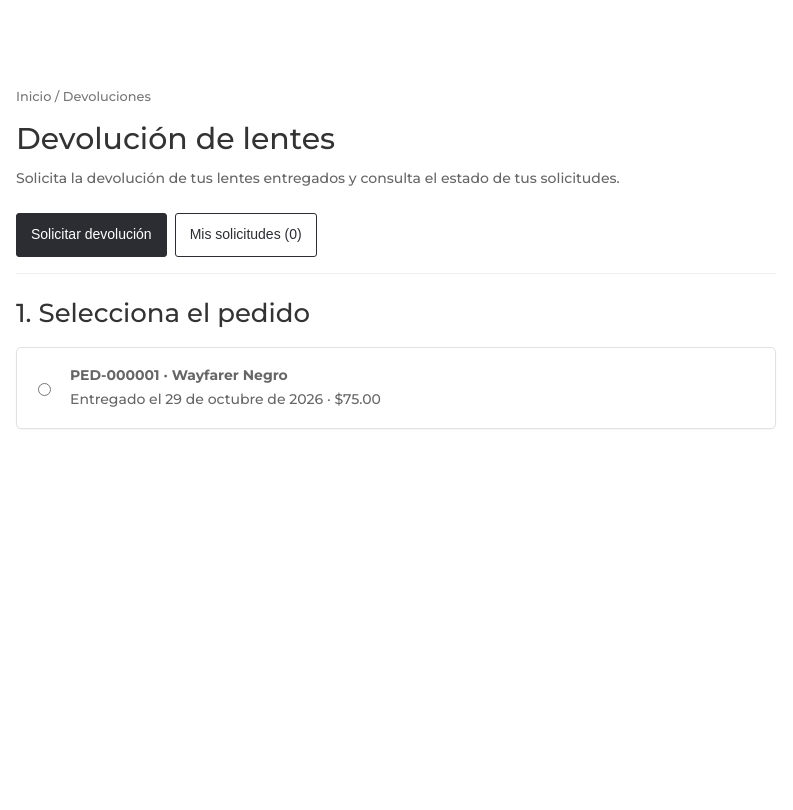
Test case: ReturnsPage › RN3 / RN5: exige motivo, forma y confirmación antes de enviar
Click the radio button labelled "PED-000001": (44, 389) top-left (38, 383), bottom-right (51, 396)
(page scrolled)
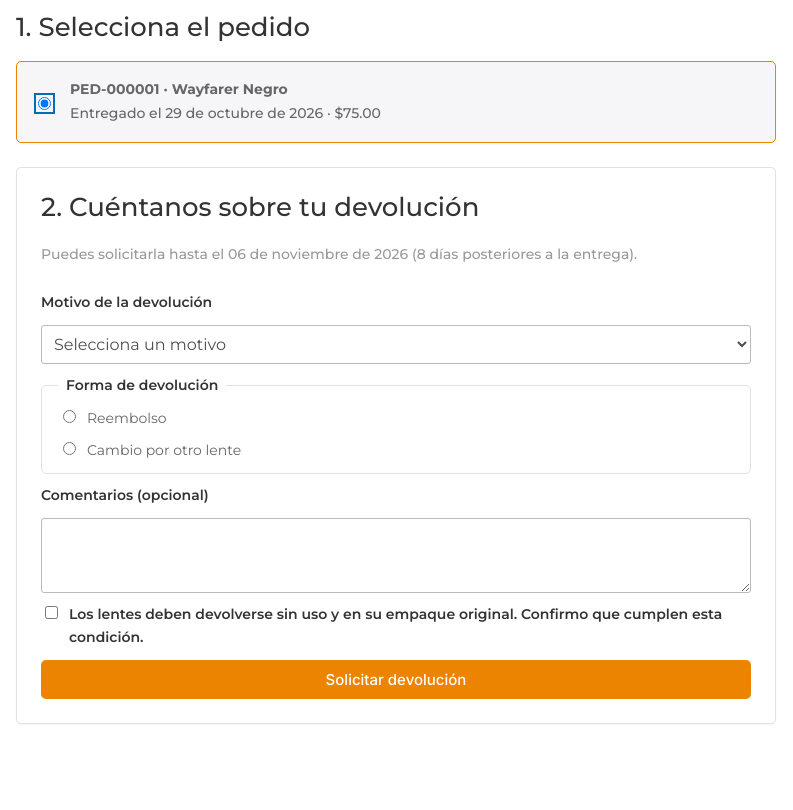
Click the button "Solicitar devolución": (396, 680) top-left (41, 660), bottom-right (751, 699)
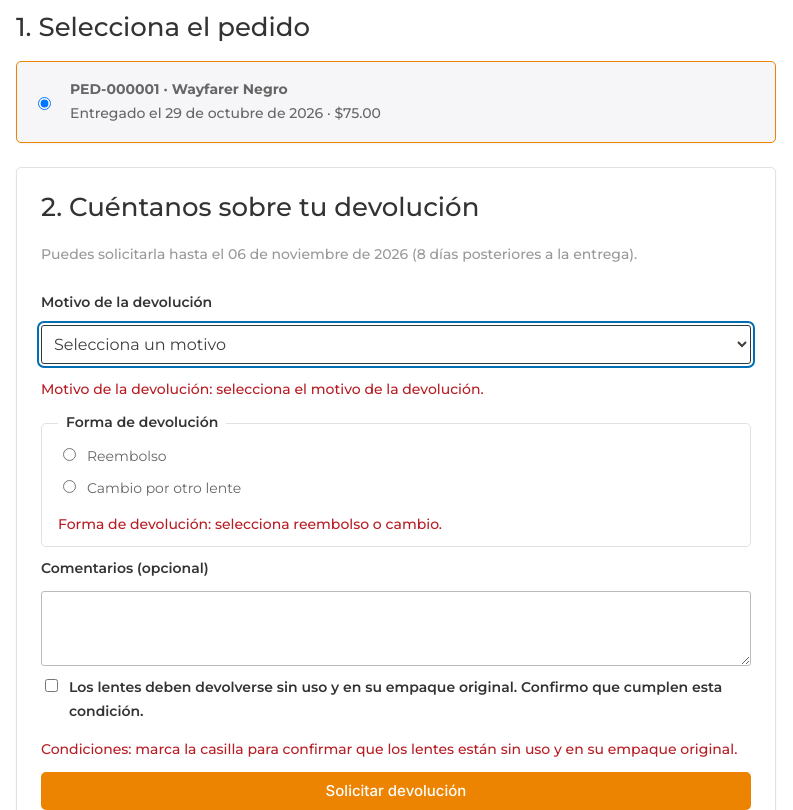
expect the number of messages is 3: met, box top-left (41, 380), bottom-right (484, 398); top-left (58, 515), bottom-right (442, 533); top-left (41, 734), bottom-right (751, 762)
